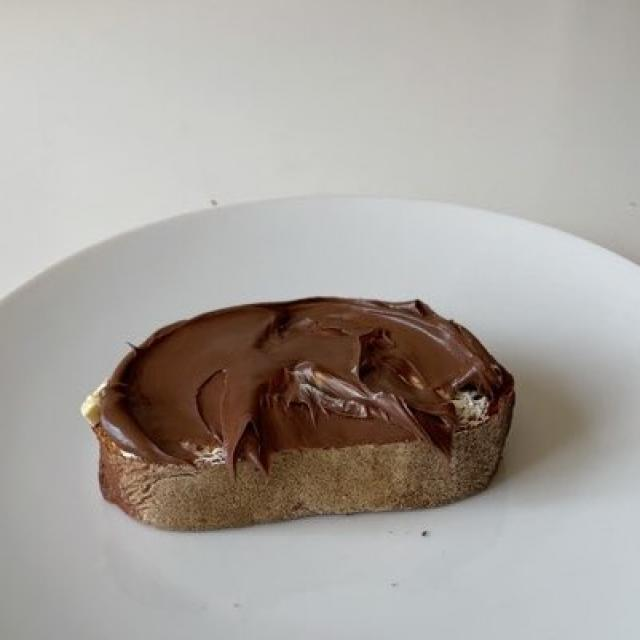bread-whole-wheat: (94, 291, 498, 535)
butter: (65, 376, 503, 435)
hazelnut-chocolate-spread-nutella-ovomaltine-caotina: (86, 292, 514, 472)
